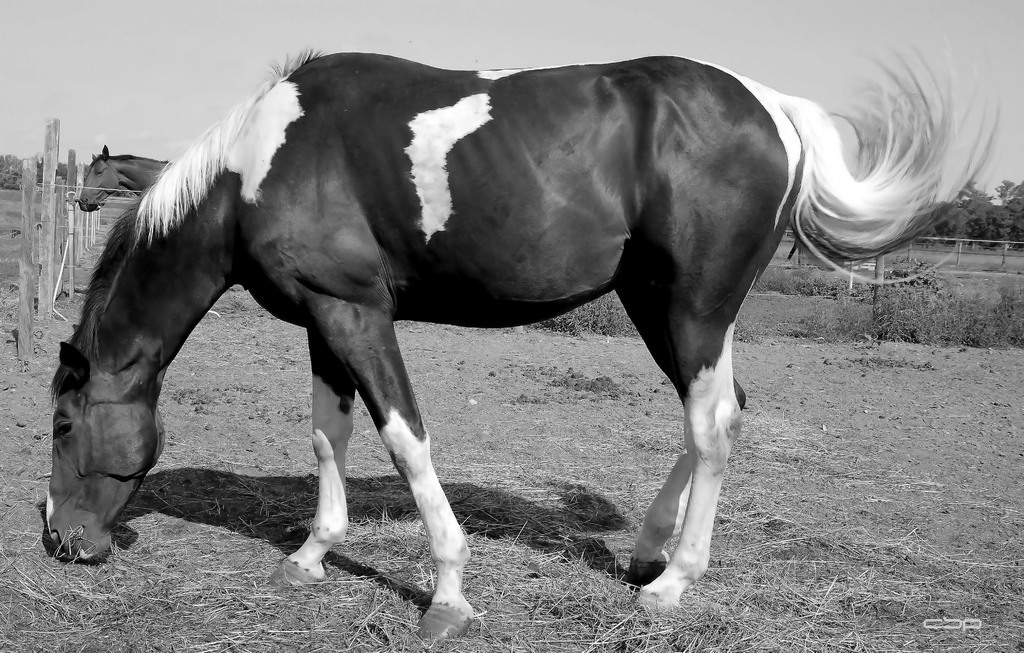horse: (41, 41, 1008, 647)
